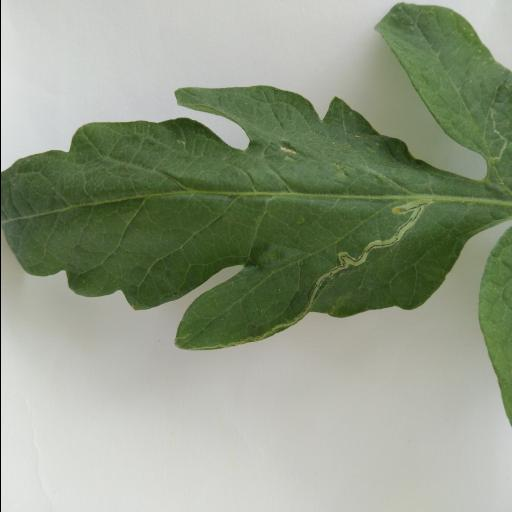Leaf Miner: (0, 84, 478, 354)
